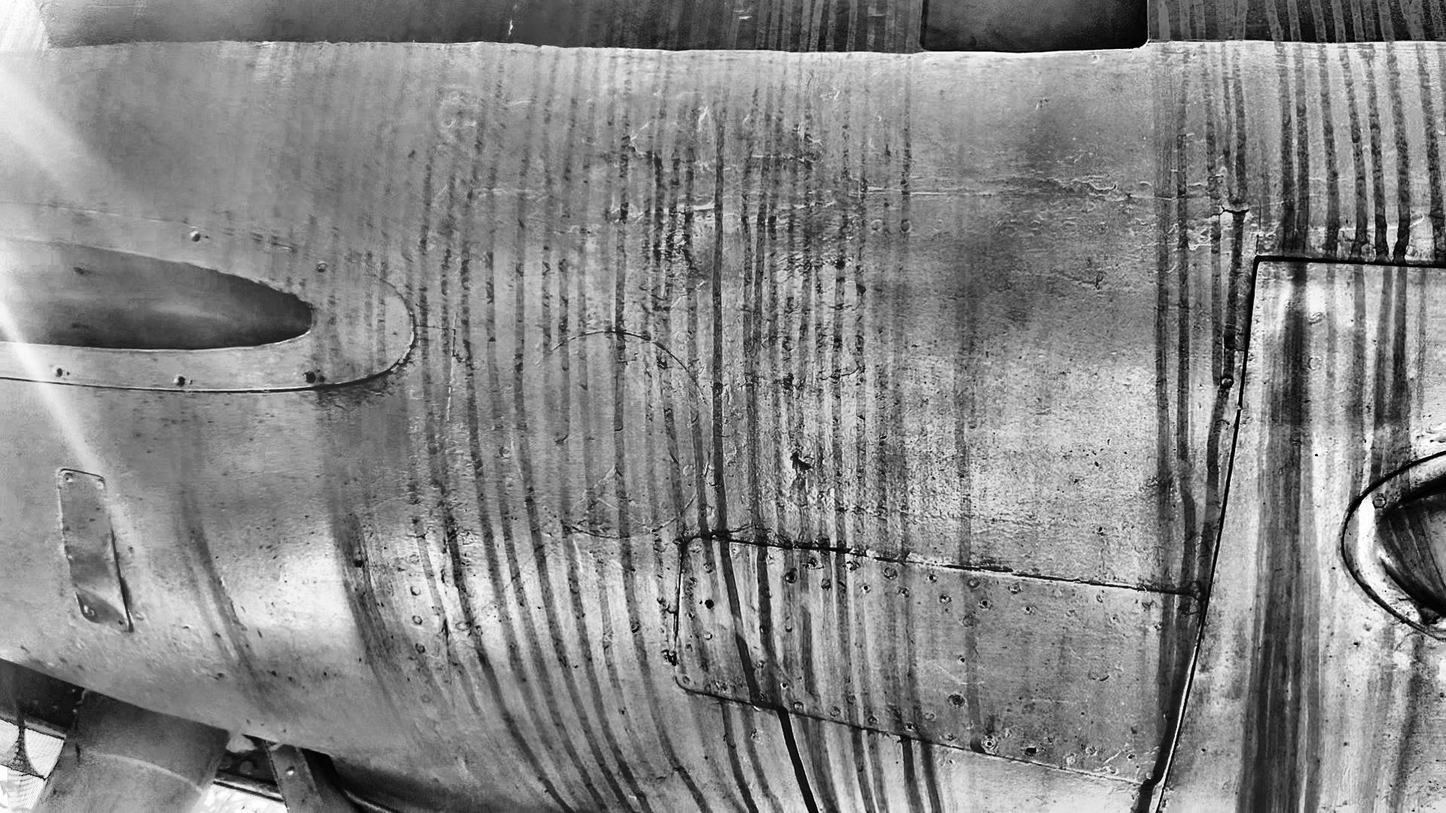crack: (1211, 206, 1250, 216), (662, 650, 675, 665), (664, 605, 680, 617)
dent: (1277, 286, 1323, 335), (73, 584, 130, 620)
missing-head: (305, 372, 318, 385), (316, 262, 328, 274), (191, 230, 201, 243), (175, 376, 186, 387), (54, 367, 63, 380), (705, 599, 714, 608), (787, 573, 796, 582), (982, 600, 989, 608), (987, 740, 993, 748), (928, 575, 935, 581), (1026, 607, 1031, 613), (862, 586, 869, 590), (960, 658, 966, 662), (782, 683, 786, 688), (908, 725, 912, 729)
paint-peel-off: (363, 368, 394, 393), (791, 452, 810, 472)
